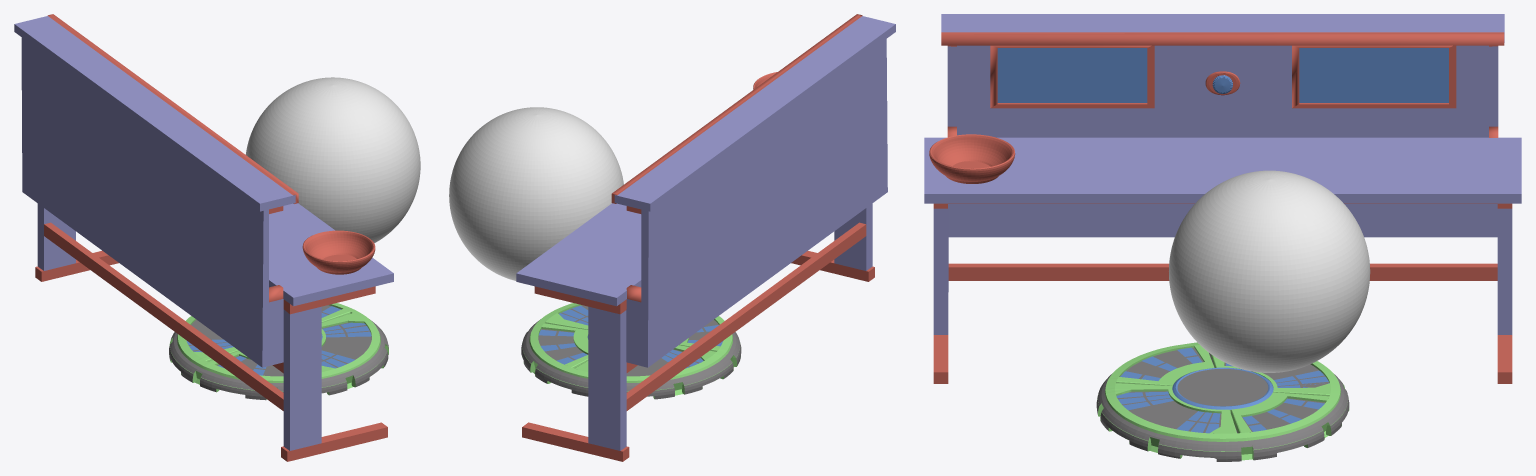
Rendered from Рабочий стол.fbx.
The picture shows the model from 3 angles, left to right: view 1: azimuth 30°, elevation 25°; view 2: azimuth 150°, elevation 25°; view 3: azimuth 270°, elevation 25°; orthographic projection. The views are drawn at different scales.
Parts seen in each view (by area): view 1: Окружность.008, Сфера, Плоскость.008, Окружность.001, Окружность.006, Плоскость.000, Окружность.003; view 2: Окружность.008, Сфера, Плоскость.008, Окружность.001, Окружность.006, Окружность.003; view 3: Окружность.008, Сфера, Плоскость.008, Окружность.001, Окружность.000, Окружность.002, Окружность.006, Окружность.003, Плоскость.000, Окружность.004.
Boxes of the visible parts, bbox=[...] form: Окружность.008: bbox=[14, 16, 393, 450]; Сфера: bbox=[245, 77, 420, 242]; Плоскость.008: bbox=[35, 14, 387, 461]; Окружность.001: bbox=[169, 305, 388, 400]; Окружность.006: bbox=[169, 303, 388, 399]; Плоскость.000: bbox=[302, 230, 375, 274]; Окружность.003: bbox=[186, 306, 371, 375]; Окружность.008: bbox=[516, 16, 895, 450]; Сфера: bbox=[449, 107, 623, 280]; Плоскость.008: bbox=[522, 14, 874, 461]; Окружность.001: bbox=[521, 305, 741, 399]; Окружность.006: bbox=[523, 303, 740, 398]; Окружность.003: bbox=[539, 305, 722, 368]; Окружность.008: bbox=[924, 14, 1521, 334]; Сфера: bbox=[1169, 170, 1370, 372]; Плоскость.008: bbox=[933, 32, 1512, 383]; Окружность.001: bbox=[1096, 347, 1349, 461]; Окружность.000: bbox=[997, 48, 1147, 102]; Окружность.002: bbox=[1299, 48, 1448, 102]; Окружность.006: bbox=[1097, 342, 1349, 460]; Окружность.003: bbox=[1116, 347, 1329, 433]; Плоскость.000: bbox=[929, 134, 1015, 183]; Окружность.004: bbox=[1177, 369, 1268, 406].
Size of the model in its own units: 380 by 342 by 586.
